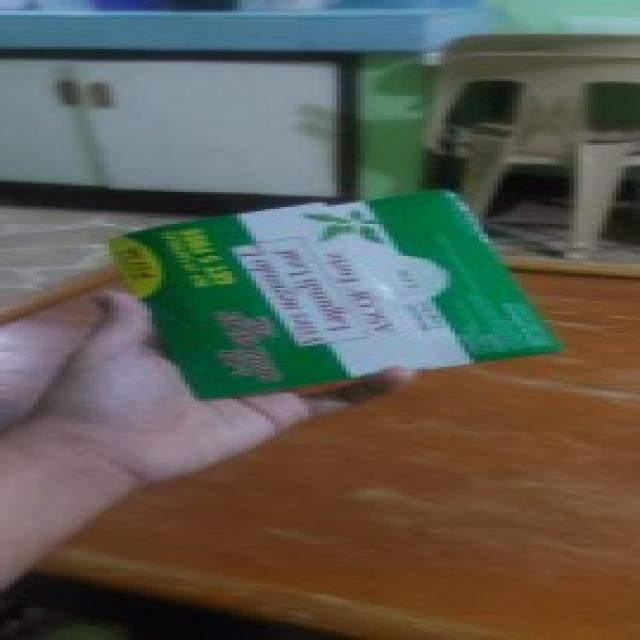Cacat: (102, 185, 574, 402)
